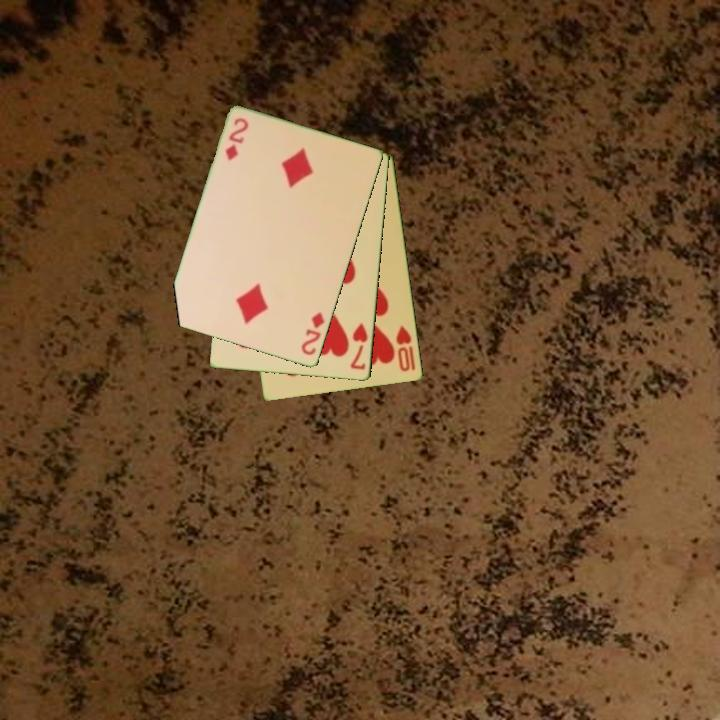10h: (393, 322, 415, 375)
2d: (298, 309, 327, 359), (222, 114, 251, 164)
7h: (347, 320, 371, 373)
